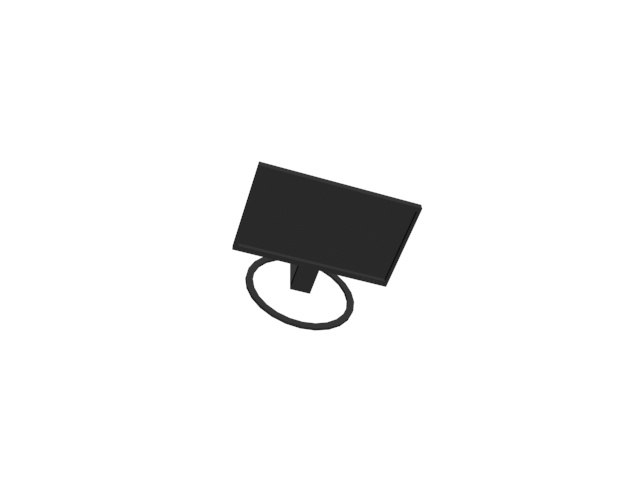monitor: (233, 161, 424, 336)
